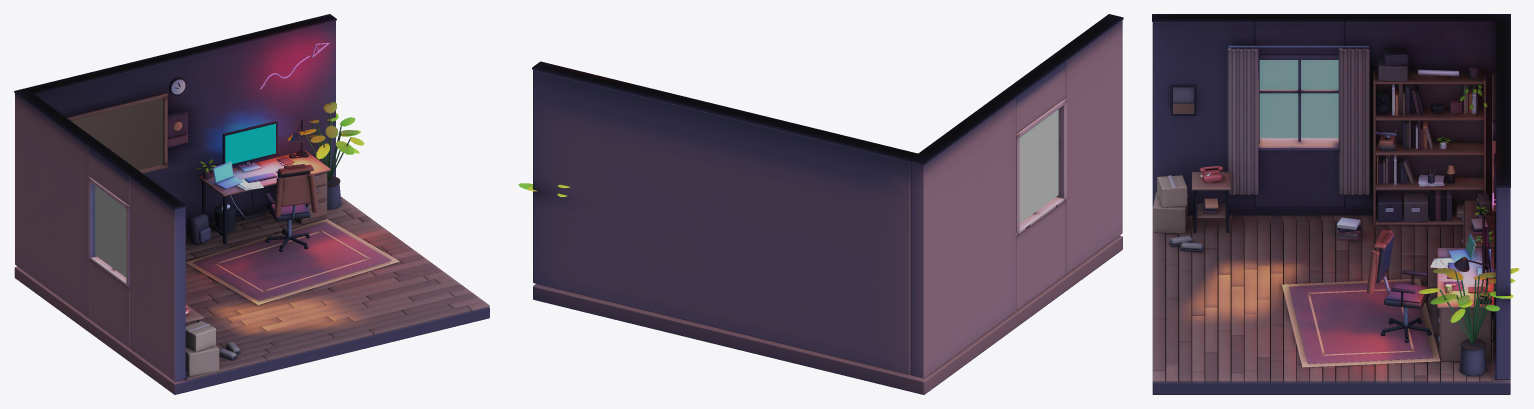
File: room.glb
3 views of the same model, side by side, from view 1: azimuth 30°, elevation 25°; view 2: azimuth 150°, elevation 25°; view 3: azimuth 270°, elevation 25° (orthographic). The views are drawn at different scales.
Visible parts, largest first — view 1: Room, BoardFace, Chair, Screen, Board, Computer; view 2: Room; view 3: Room, Shelf, Chair, Computer, Board, Phone.
Boxes of the visible parts, x1,y1,x2,y2 form: Room: (14, 14, 489, 394); BoardFace: (71, 99, 163, 170); Chair: (265, 164, 318, 251); Screen: (225, 123, 275, 163); Board: (66, 93, 167, 173); Computer: (222, 121, 277, 182); Room: (518, 14, 1123, 394); Room: (1152, 14, 1519, 394); Shelf: (1373, 46, 1487, 226); Chair: (1366, 230, 1431, 342); Computer: (1447, 213, 1493, 286); Board: (1492, 73, 1495, 211); Phone: (1199, 166, 1223, 183).
Bounding box in the file's own units: 5.27 × 2.82 × 4.5.
